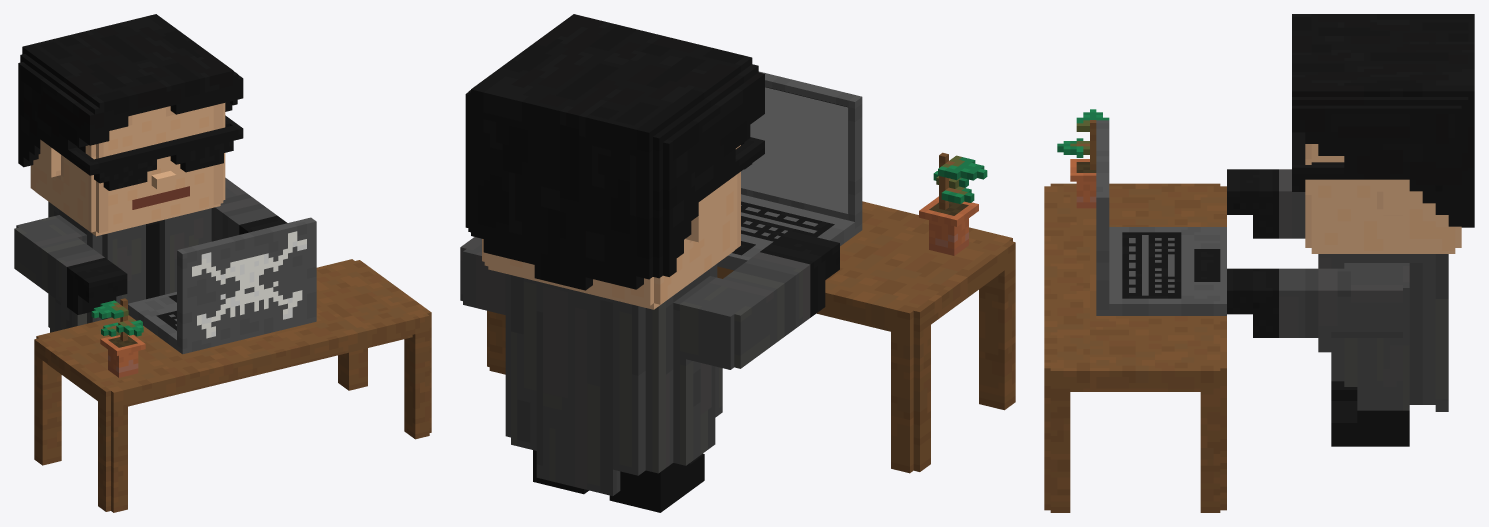
File: VoxelScene.fbx
The picture shows the model from 3 angles, left to right: view 1: azimuth 30°, elevation 25°; view 2: azimuth 150°, elevation 25°; view 3: azimuth 270°, elevation 25°; orthographic projection. The views are drawn at different scales.
Parts seen in each view (by area): view 1: Voxel; view 2: Voxel, Screen; view 3: Voxel.
Boxes of the visible parts, bbox=[...] form: Voxel: bbox=[14, 14, 431, 512]; Voxel: bbox=[460, 14, 1015, 512]; Screen: bbox=[741, 87, 848, 213]; Voxel: bbox=[1044, 14, 1474, 512].
Size of what is drawn, in the model's own units: 680 by 620 by 660.
